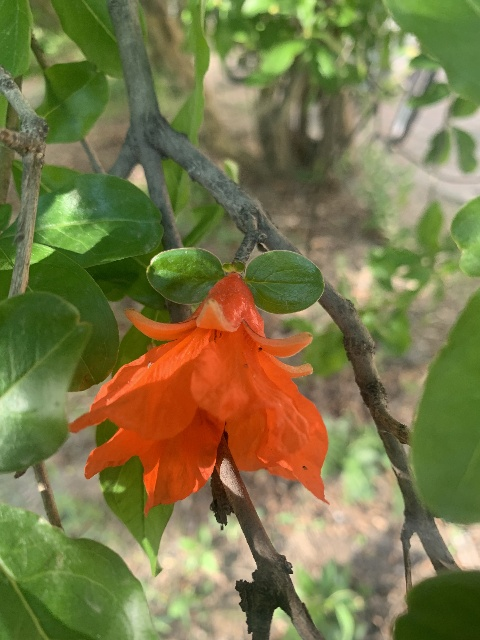flower: (71, 273, 330, 516)
